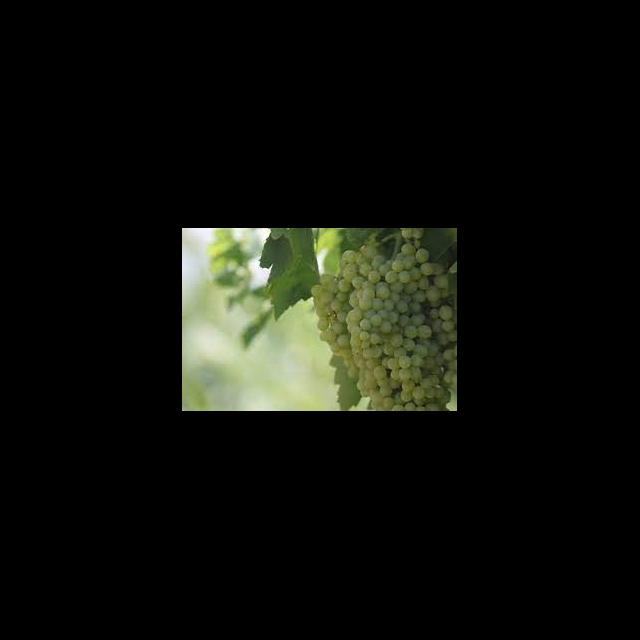grape: (310, 228, 456, 410)
